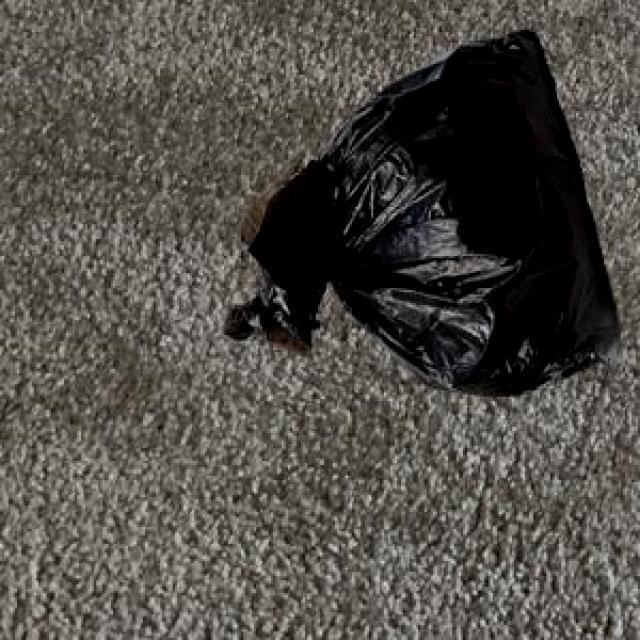Trashbag: (213, 28, 625, 403)
